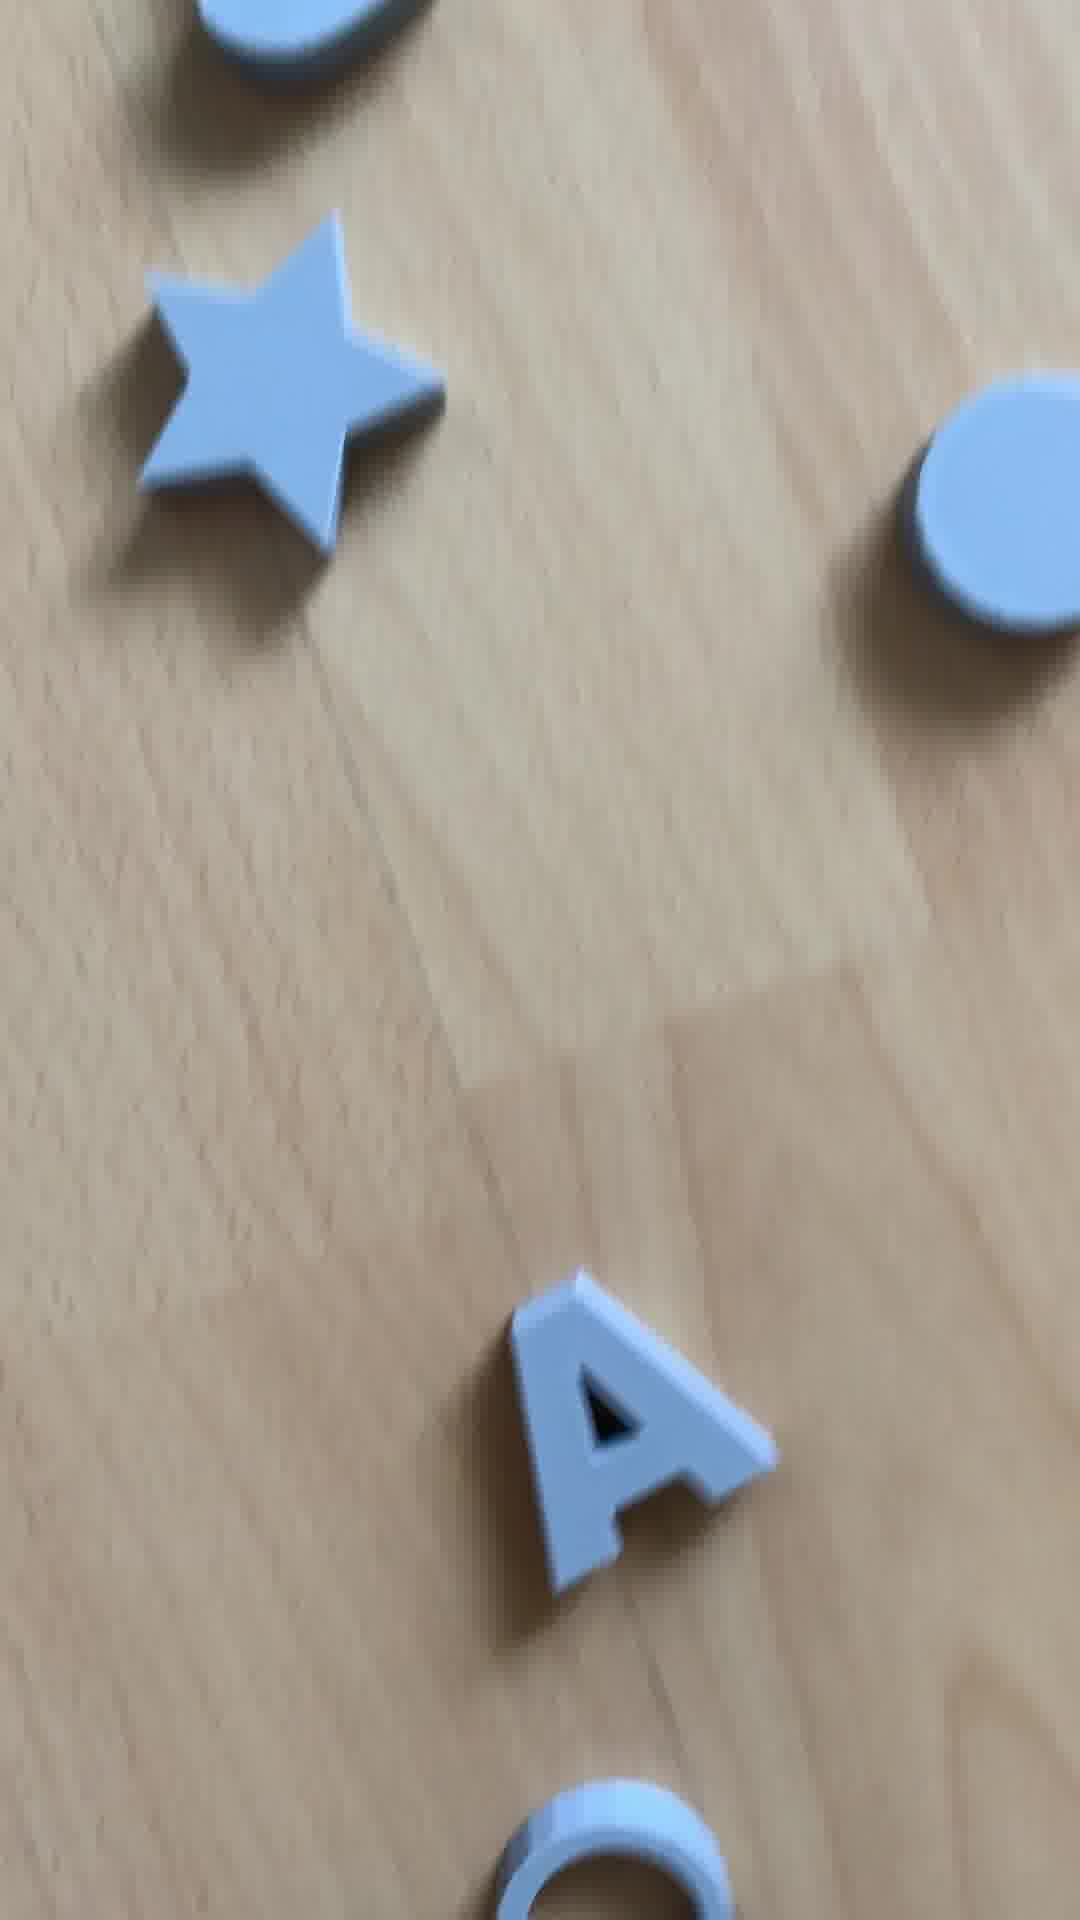Gray A-letter: (464, 1284, 790, 1589)
Gray circle: (891, 375, 1080, 646)
Gray star: (129, 220, 436, 553)
